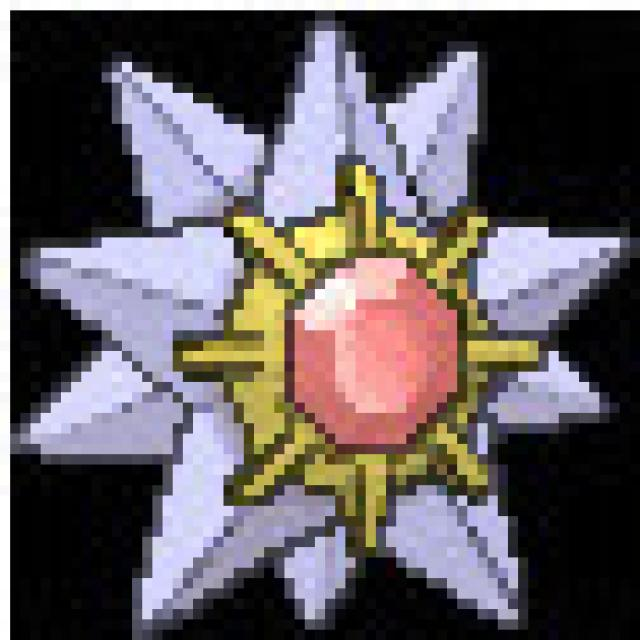Starmie: (98, 39, 536, 639)
